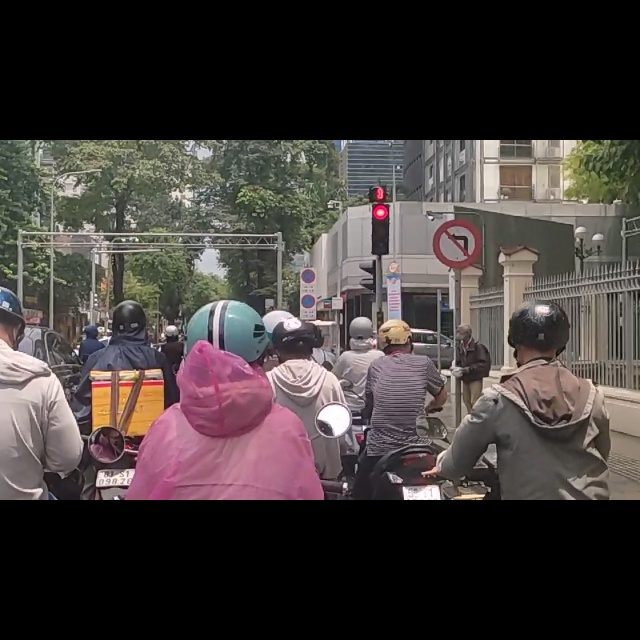bien_cam: (432, 136, 481, 230), (301, 271, 316, 300), (300, 229, 315, 257)
